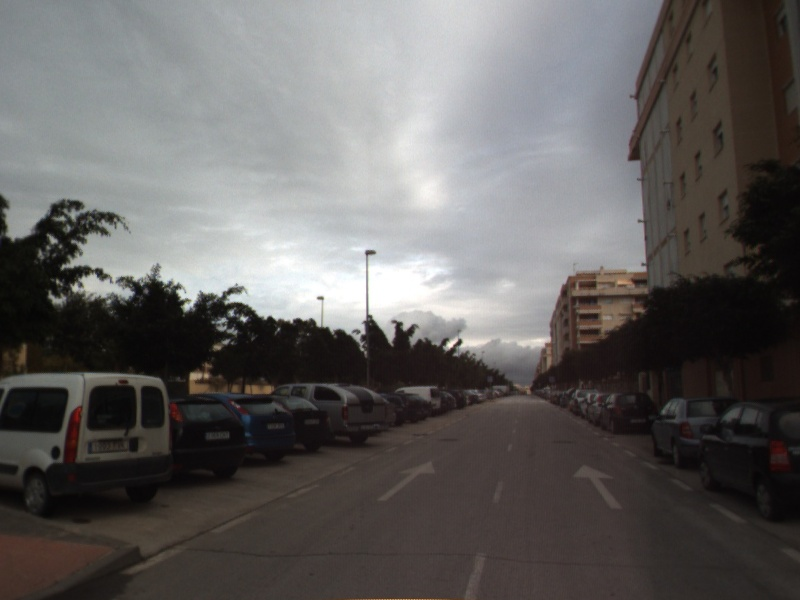STRAIGHT: (375, 459, 437, 503), (570, 462, 625, 511)
